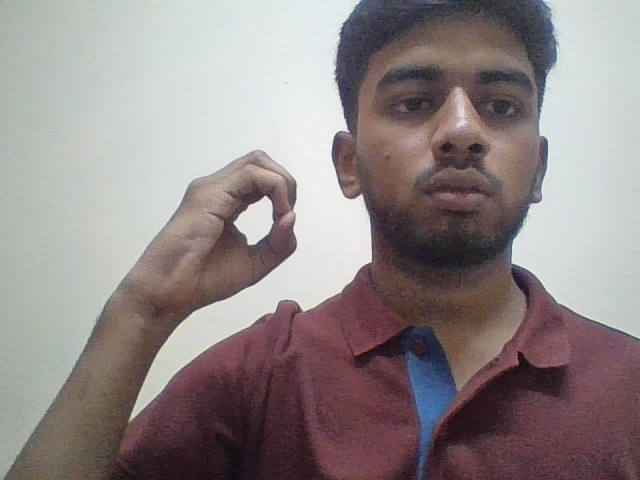O: (115, 146, 309, 317)
